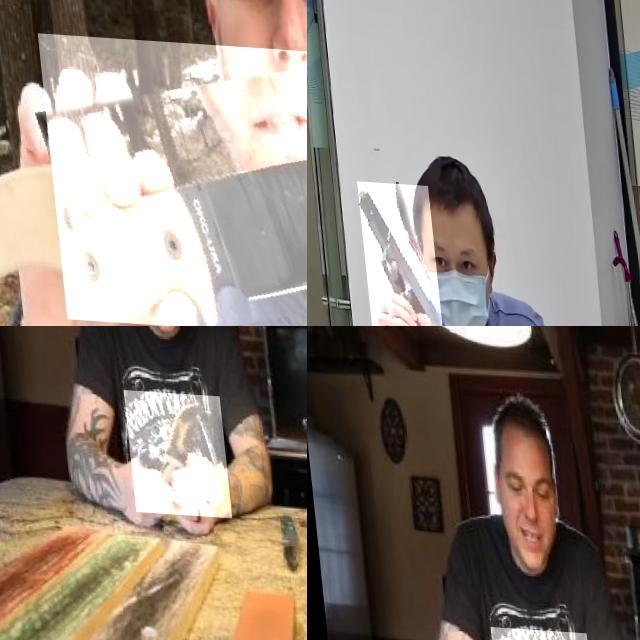-: (31, 31, 307, 326), (116, 388, 222, 514)
gun-knife-thesis - v11 Yolov5 augmented: (350, 177, 436, 326)
